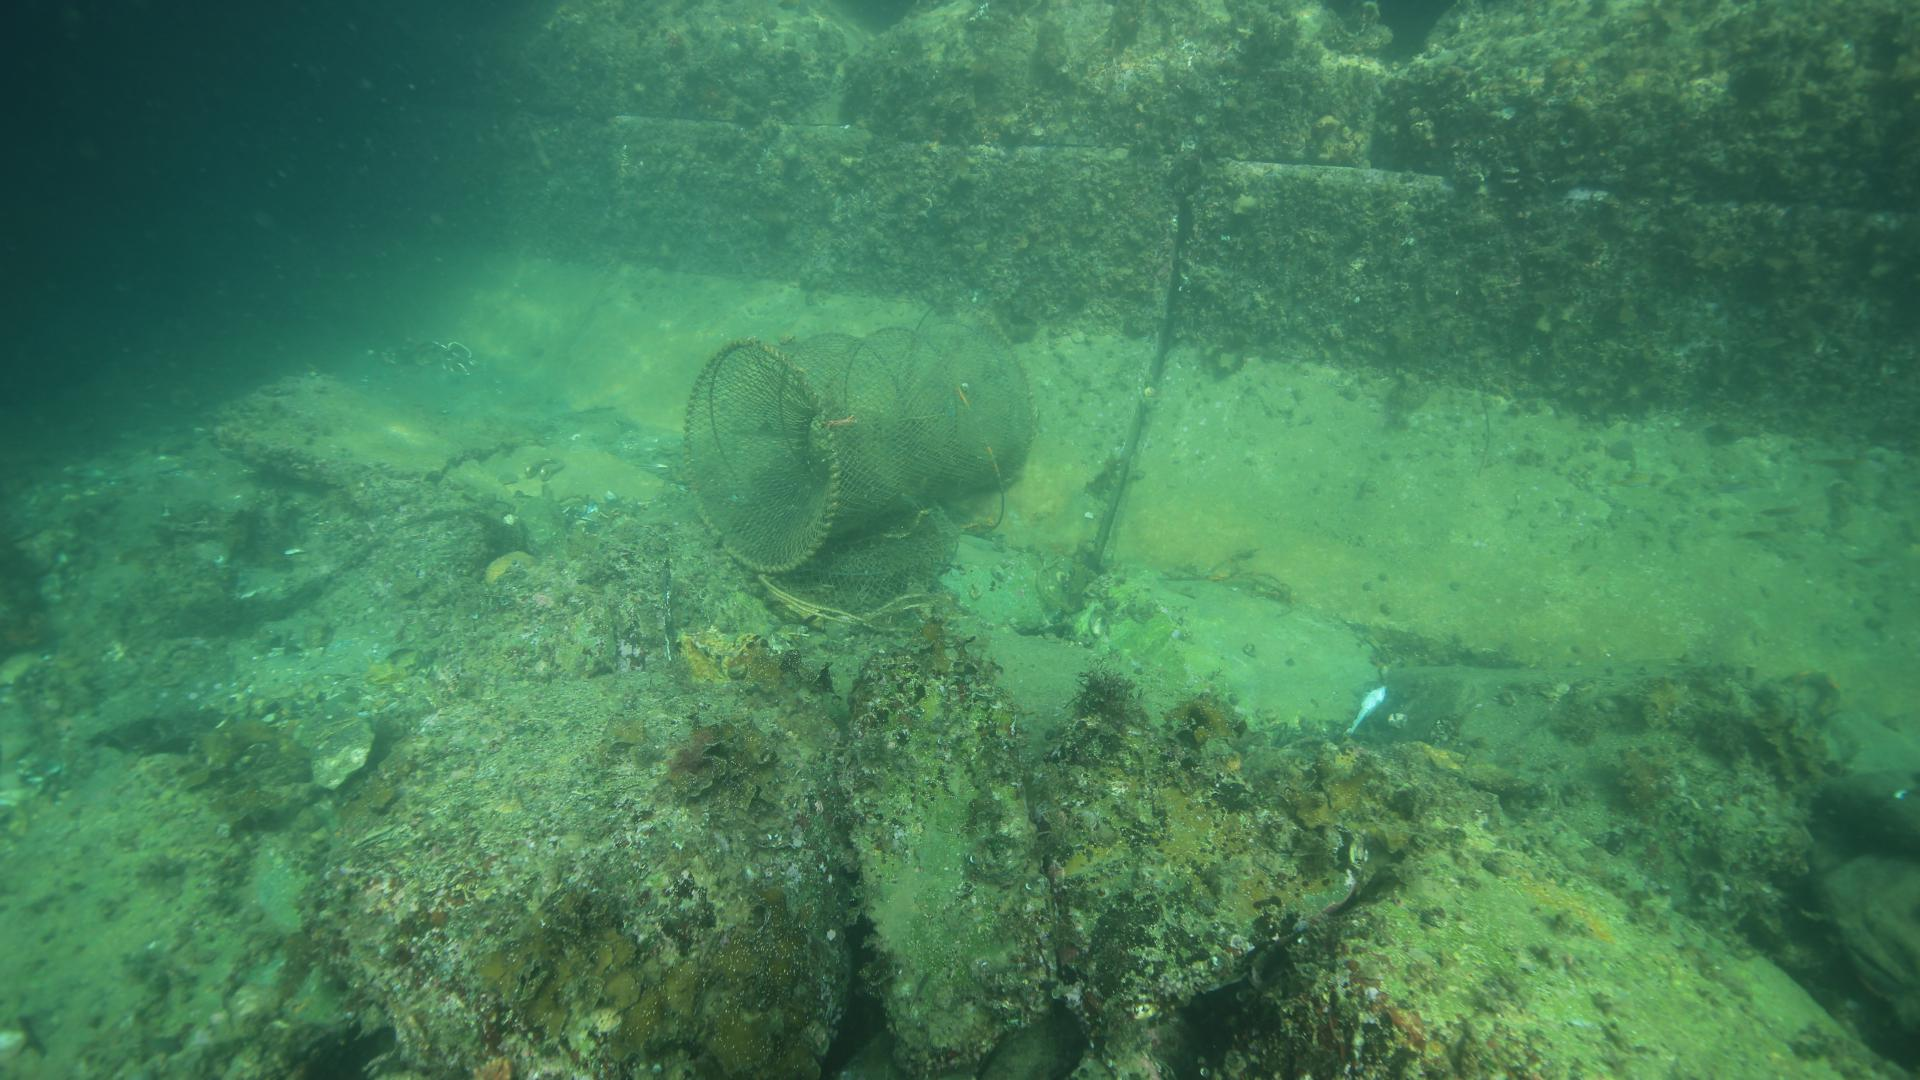spring fish trap: (674, 303, 1038, 574)
